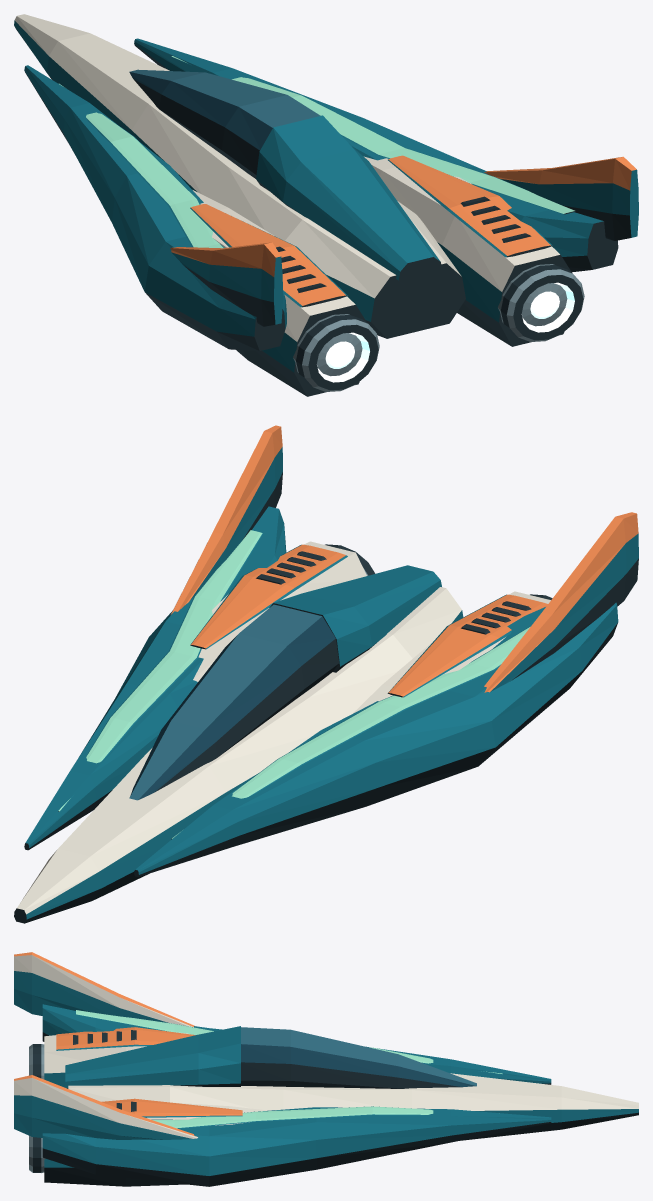
File: kestrel.glb
3 views of the same model, one above another, from view 1: azimuth 30°, elevation 25°; view 2: azimuth 150°, elevation 25°; view 3: azimuth 270°, elevation 25° (orthographic). The views are drawn at different scales.
Visible parts, largest first — view 1: Central monocoque, Scimitar outer aerofoil (×2), Cockpit rear fairing, Engine nacelle (×2), Split tail stabiliser (×2), Vector nozzle (×2), Glasshouse, Engine access panel (×2), Diagonal ceramic inlay (×2); view 2: Scimitar outer aerofoil (×2), Central monocoque, Glasshouse, Split tail stabiliser (×2), Diagonal ceramic inlay (×2), Engine access panel (×2), Cockpit rear fairing, Engine nacelle (×2); view 3: Scimitar outer aerofoil (×2), Central monocoque, Split tail stabiliser (×2), Glasshouse, Cockpit rear fairing, Diagonal ceramic inlay (×2), Engine nacelle (×2), Engine access panel (×2), Vector nozzle (×2).
Part boxes in pixels (left/top/right/bottom): Central monocoque: left=14, top=14, right=465, bottom=338; Scimitar outer aerofoil (×2): left=24, top=38, right=618, bottom=350; Cockpit rear fairing: left=256, top=115, right=442, bottom=286; Engine nacelle (×2): left=193, top=156, right=571, bottom=396; Split tail stabiliser (×2): left=170, top=156, right=638, bottom=326; Vector nozzle (×2): left=293, top=264, right=584, bottom=391; Glasshouse: left=129, top=69, right=320, bottom=178; Engine access panel (×2): left=190, top=155, right=552, bottom=307; Diagonal ceramic inlay (×2): left=59, top=56, right=575, bottom=248; Scimitar outer aerofoil (×2): left=24, top=506, right=618, bottom=876; Central monocoque: left=14, top=587, right=463, bottom=923; Glasshouse: left=129, top=604, right=338, bottom=800; Split tail stabiliser (×2): left=170, top=425, right=638, bottom=692; Diagonal ceramic inlay (×2): left=58, top=530, right=530, bottom=839; Engine access panel (×2): left=190, top=544, right=547, bottom=697; Cockpit rear fairing: left=269, top=565, right=441, bottom=672; Engine nacelle (×2): left=193, top=541, right=550, bottom=713; Scimitar outer aerofoil (×2): left=42, top=1004, right=551, bottom=1186; Central monocoque: left=68, top=1073, right=638, bottom=1140; Split tail stabiliser (×2): left=14, top=952, right=197, bottom=1139; Glasshouse: left=241, top=1027, right=476, bottom=1088; Cockpit rear fairing: left=65, top=1026, right=240, bottom=1088; Diagonal ceramic inlay (×2): left=76, top=1010, right=502, bottom=1128; Engine nacelle (×2): left=44, top=1032, right=267, bottom=1186; Engine access panel (×2): left=56, top=1027, right=242, bottom=1117; Vector nozzle (×2): left=29, top=1044, right=45, bottom=1172.
Size of the model in its own units: 2 by 0.92 by 4.13.
